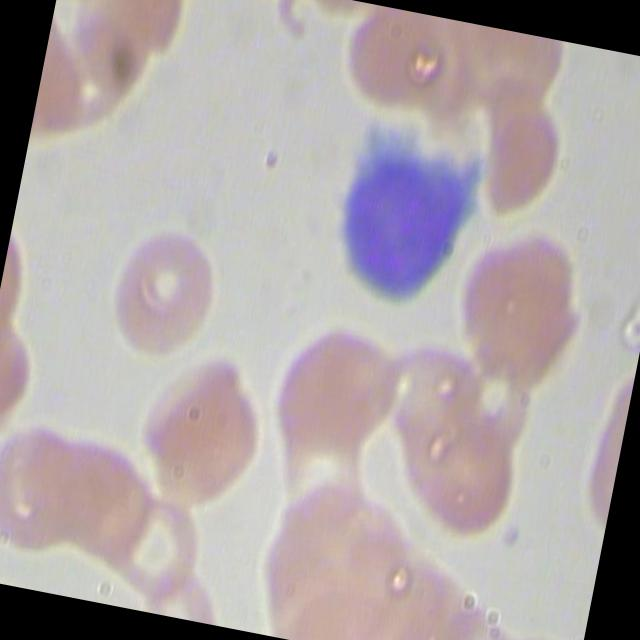RBC: (442, 214, 608, 399), (125, 337, 278, 513), (266, 300, 419, 476), (96, 214, 234, 366), (468, 92, 586, 224), (414, 409, 532, 540), (337, 2, 455, 132), (0, 417, 101, 563), (117, 484, 211, 604)
WBC: (313, 102, 520, 324)
